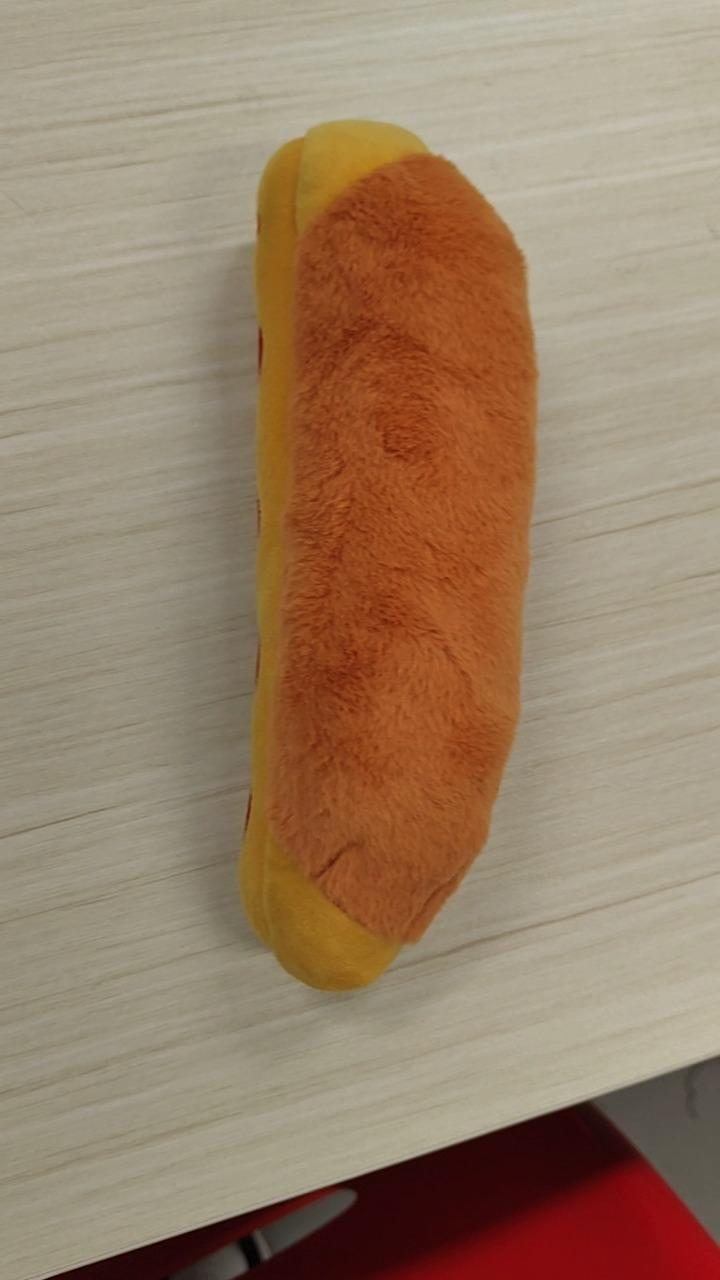hotdog: (236, 116, 539, 992)
